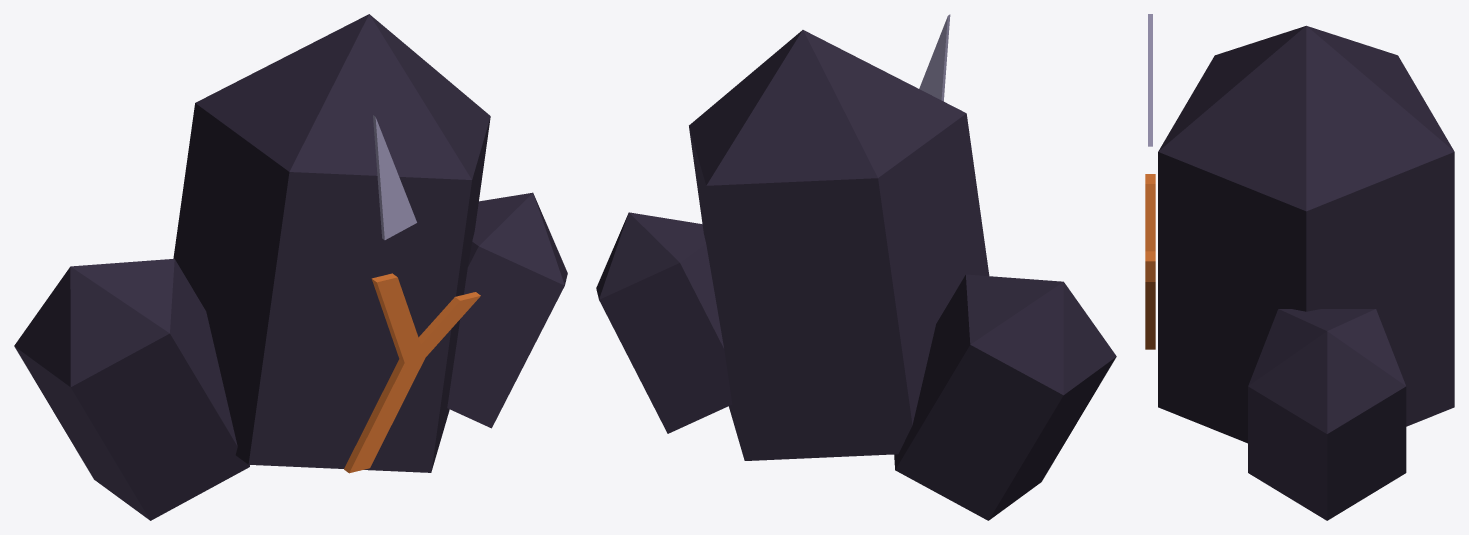
Rendered from mat_obsidian.glb.
The picture shows the model from 3 angles, left to right: view 1: azimuth 30°, elevation 25°; view 2: azimuth 150°, elevation 25°; view 3: azimuth 270°, elevation 25°; orthographic projection. The views are drawn at different scales.
Parts seen in each view (by area): view 1: _crystal; view 2: _crystal; view 3: _crystal.
Part boxes in pixels (x1=…): _crystal: x1=14, y1=14, x2=567, y2=520; _crystal: x1=596, y1=14, x2=1116, y2=520; _crystal: x1=1145, y1=14, x2=1454, y2=520.
Bounding box in the file's own units: 0.9646 × 0.7773 × 0.506.
